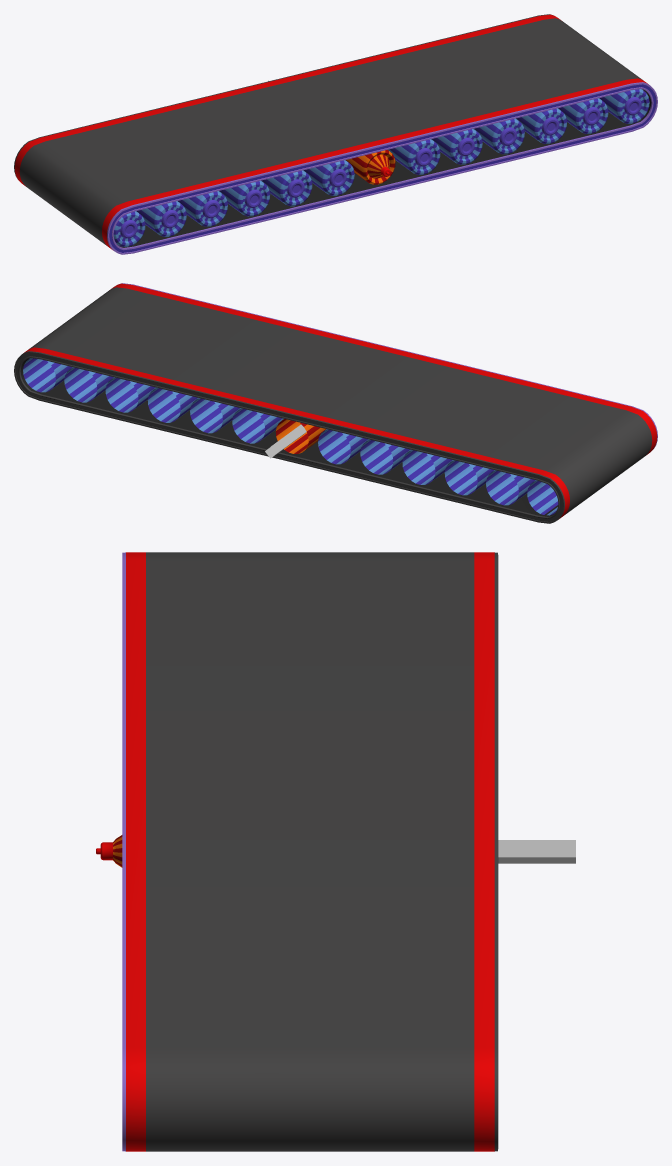
File: Conveyor_Belt.fbx
3 views of the same model, one above another, from view 1: azimuth 30°, elevation 25°; view 2: azimuth 150°, elevation 25°; view 3: azimuth 270°, elevation 25° (orthographic). The views are drawn at different scales.
Visible parts, largest first — view 1: Belt.001, Belt_1, Belt_5, Belt_7, Belt_4, Belt_8, Belt_6, Belt_2.003, Belt_2.004, Belt_2.001, Belt_2, Belt_2.005 (+2 smaller); view 2: Belt.001, Belt_1, Belt_2.003, Belt_7, Belt_4, Belt_5, Belt_6, Belt_8, Belt_2, Belt_2.004, Belt_2.001, Belt_2.005 (+3 smaller); view 3: Belt.001, L_part.
Part boxes in pixels (box(x1,y1,x2,y2)): Belt.001: box(14, 14, 657, 254); Belt_1: box(388, 139, 440, 174); Belt_5: box(431, 129, 482, 164); Belt_7: box(261, 170, 312, 206); Belt_4: box(474, 118, 524, 154); Belt_8: box(219, 180, 270, 216); Belt_6: box(303, 160, 354, 195); Belt_2.003: box(516, 108, 566, 143); Belt_2.004: box(558, 98, 608, 133); Belt_2.001: box(136, 201, 186, 236); Belt_2: box(178, 191, 227, 226); Belt_2.005: box(599, 89, 649, 123); Belt.001: box(14, 283, 657, 523); Belt_1: box(232, 408, 283, 443); Belt_2.003: box(105, 377, 155, 412); Belt_7: box(360, 439, 410, 474); Belt_4: box(147, 387, 197, 422); Belt_5: box(190, 398, 240, 433); Belt_6: box(318, 429, 368, 464); Belt_8: box(402, 449, 452, 484); Belt_2: box(444, 460, 493, 495); Belt_2.004: box(64, 367, 113, 402); Belt_2.001: box(486, 470, 535, 505); Belt_2.005: box(23, 358, 72, 392); Belt.001: box(122, 552, 498, 1151); L_part: box(498, 840, 575, 863).
Size of the model in its own units: 1146 by 95.22 by 433.
